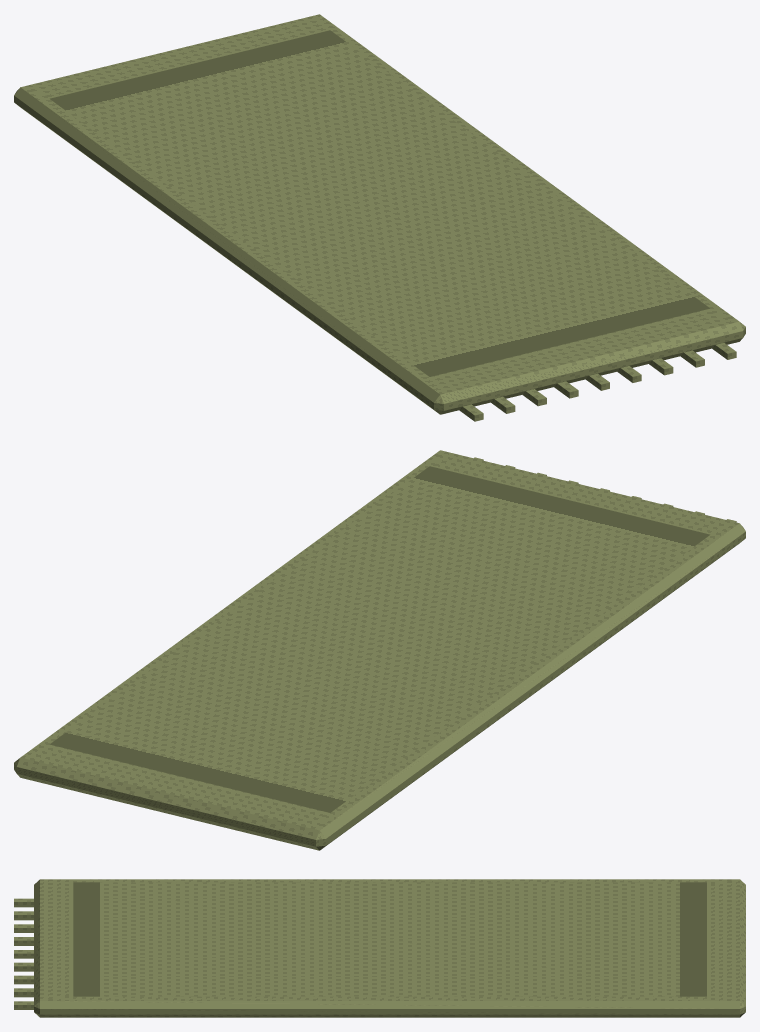
File: scarf_long.glb
The picture shows the model from 3 angles, top to bottom: view 1: azimuth 30°, elevation 25°; view 2: azimuth 150°, elevation 25°; view 3: azimuth 270°, elevation 25°; orthographic projection. The views are drawn at different scales.
Visible parts, largest first — view 1: block_hem or woven pattern, block_folded textile; view 2: block_hem or woven pattern, block_folded textile; view 3: block_hem or woven pattern, block_folded textile.
Boxes of the visible parts, x1=… form: block_hem or woven pattern: x1=50, y1=30, x2=709, y2=376; block_folded textile: x1=14, y1=14, x2=745, y2=414; block_hem or woven pattern: x1=49, y1=466, x2=709, y2=812; block_folded textile: x1=14, y1=450, x2=745, y2=850; block_hem or woven pattern: x1=73, y1=882, x2=706, y2=996; block_folded textile: x1=34, y1=879, x2=745, y2=1017.
Bounding box in the file's own units: 0.21 × 0.0135 × 0.512.
Materials: 1 (1 with a texture image).
